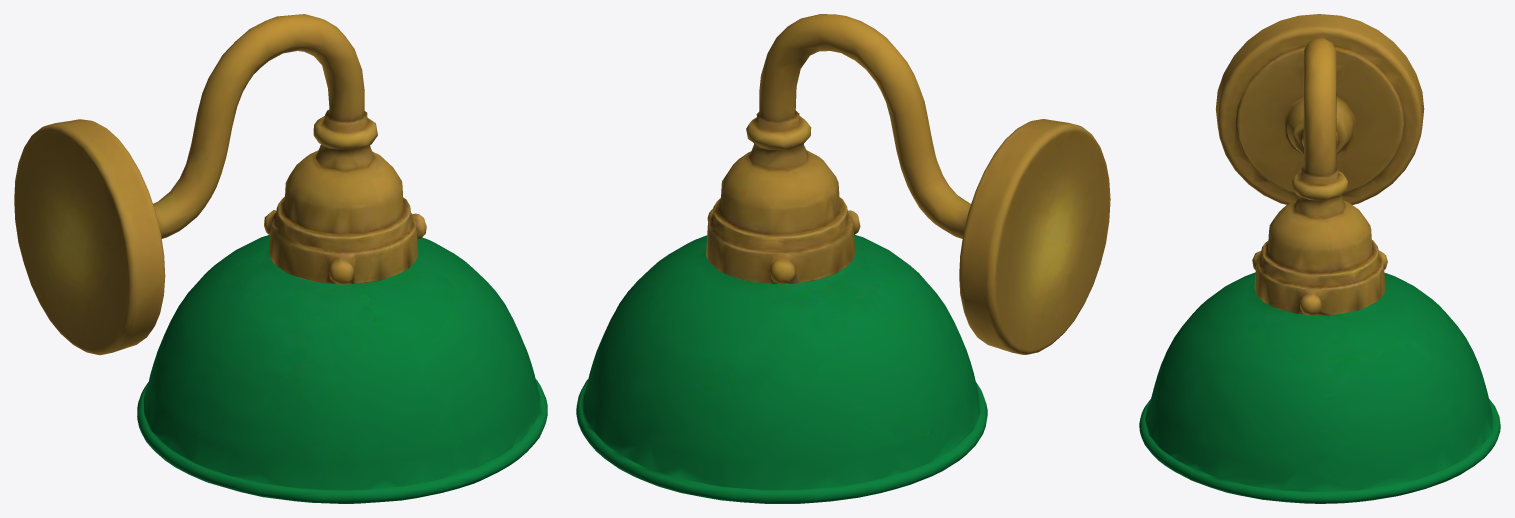
Rendered from lamp.glb.
3 renders of one model, left to right at view 1: azimuth 30°, elevation 25°; view 2: azimuth 150°, elevation 25°; view 3: azimuth 270°, elevation 25°, orthographic. The views are drawn at different scales.
Parts seen in each view (by area): view 1: tripo_node_f56e80d4-97c6-49aa-a671-303e18fc716f; view 2: tripo_node_f56e80d4-97c6-49aa-a671-303e18fc716f; view 3: tripo_node_f56e80d4-97c6-49aa-a671-303e18fc716f.
Boxes of the visible parts, x1=… form: tripo_node_f56e80d4-97c6-49aa-a671-303e18fc716f: x1=14, y1=14, x2=547, y2=503; tripo_node_f56e80d4-97c6-49aa-a671-303e18fc716f: x1=576, y1=14, x2=1110, y2=503; tripo_node_f56e80d4-97c6-49aa-a671-303e18fc716f: x1=1139, y1=14, x2=1500, y2=503.
Size of the model in its own units: 0.9803 by 0.9153 by 0.7857.
Materials: 1 (1 with a texture image).
